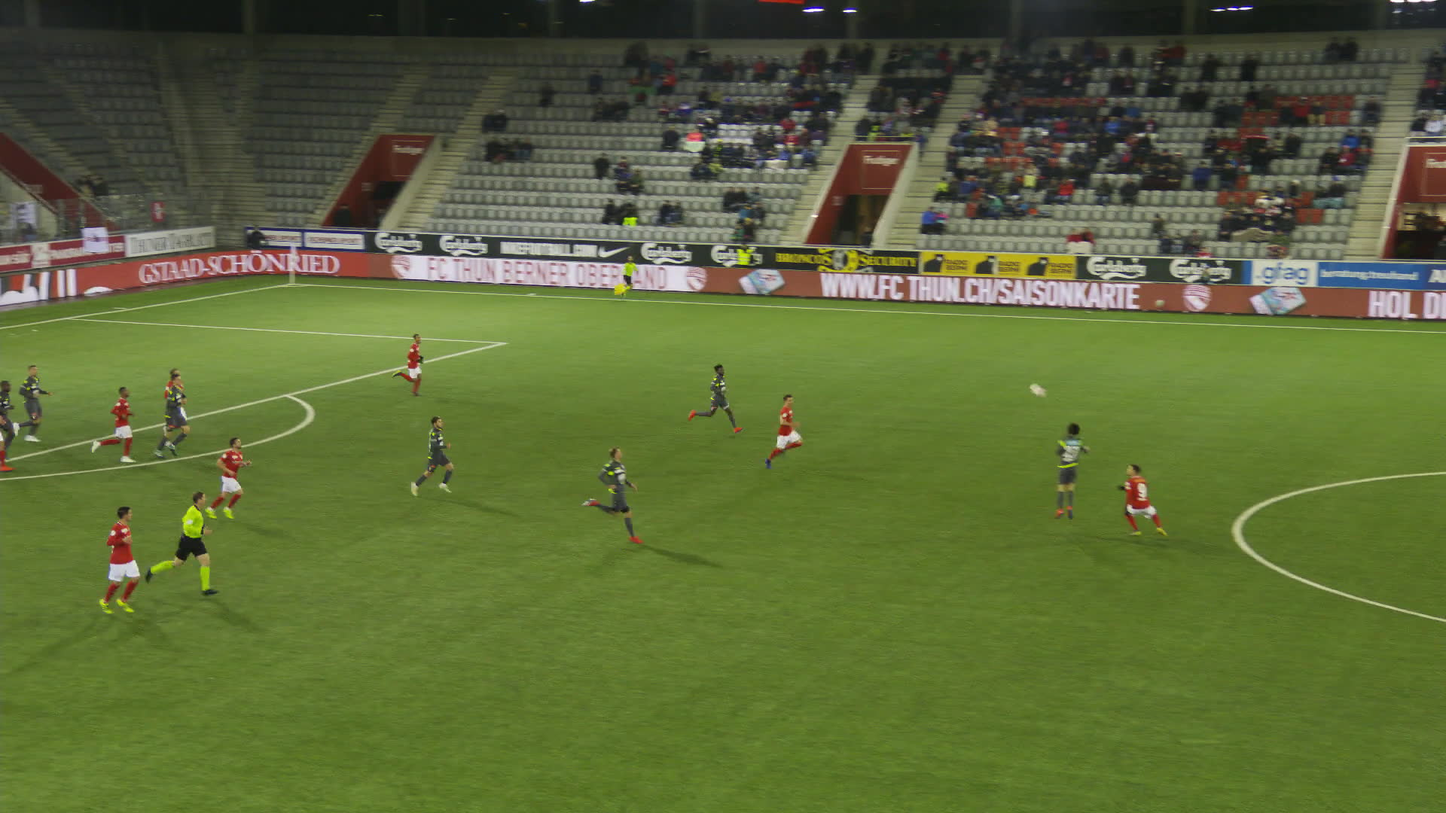ball: (1027, 382, 1048, 399)
player: (96, 503, 147, 618), (581, 446, 637, 541), (1051, 418, 1100, 524), (201, 434, 256, 522), (1124, 461, 1179, 542), (93, 384, 144, 464), (688, 363, 742, 435), (151, 373, 194, 461), (756, 394, 804, 472), (413, 414, 457, 499), (13, 362, 56, 446), (159, 367, 197, 450), (392, 332, 435, 399), (0, 378, 20, 458), (0, 414, 17, 470)
referee: (147, 489, 218, 598), (618, 254, 647, 300)
